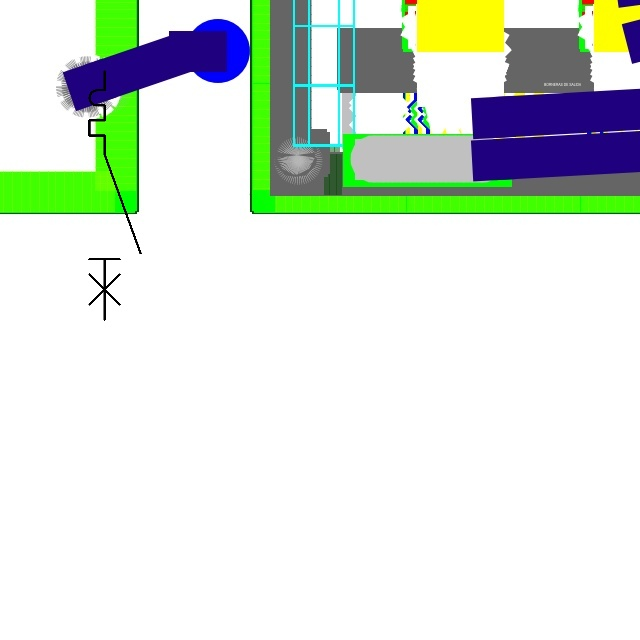interruptor_termomagnetico: (83, 65, 147, 326)
